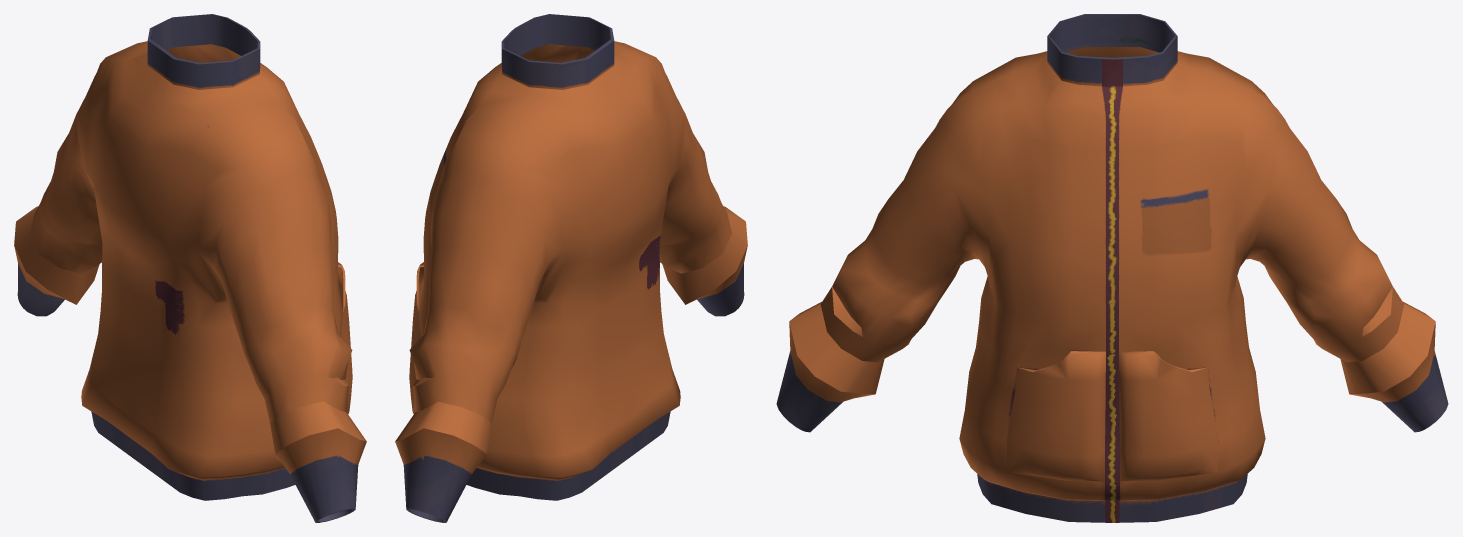
Rendered from kapkan.glb.
3 views of the same model, side by side, from view 1: azimuth 30°, elevation 25°; view 2: azimuth 150°, elevation 25°; view 3: azimuth 270°, elevation 25° (orthographic). The views are drawn at different scales.
Visible parts, largest first — view 1: chaqueta highpoly; view 2: chaqueta highpoly; view 3: chaqueta highpoly.
Boxes of the visible parts, x1,y1,x2,y2 form: chaqueta highpoly: [14, 14, 366, 522]; chaqueta highpoly: [395, 14, 747, 522]; chaqueta highpoly: [776, 14, 1448, 522].
Bounding box in the file's own units: 0.5632 × 1.06 × 1.48.
1 material, 1 textured.
